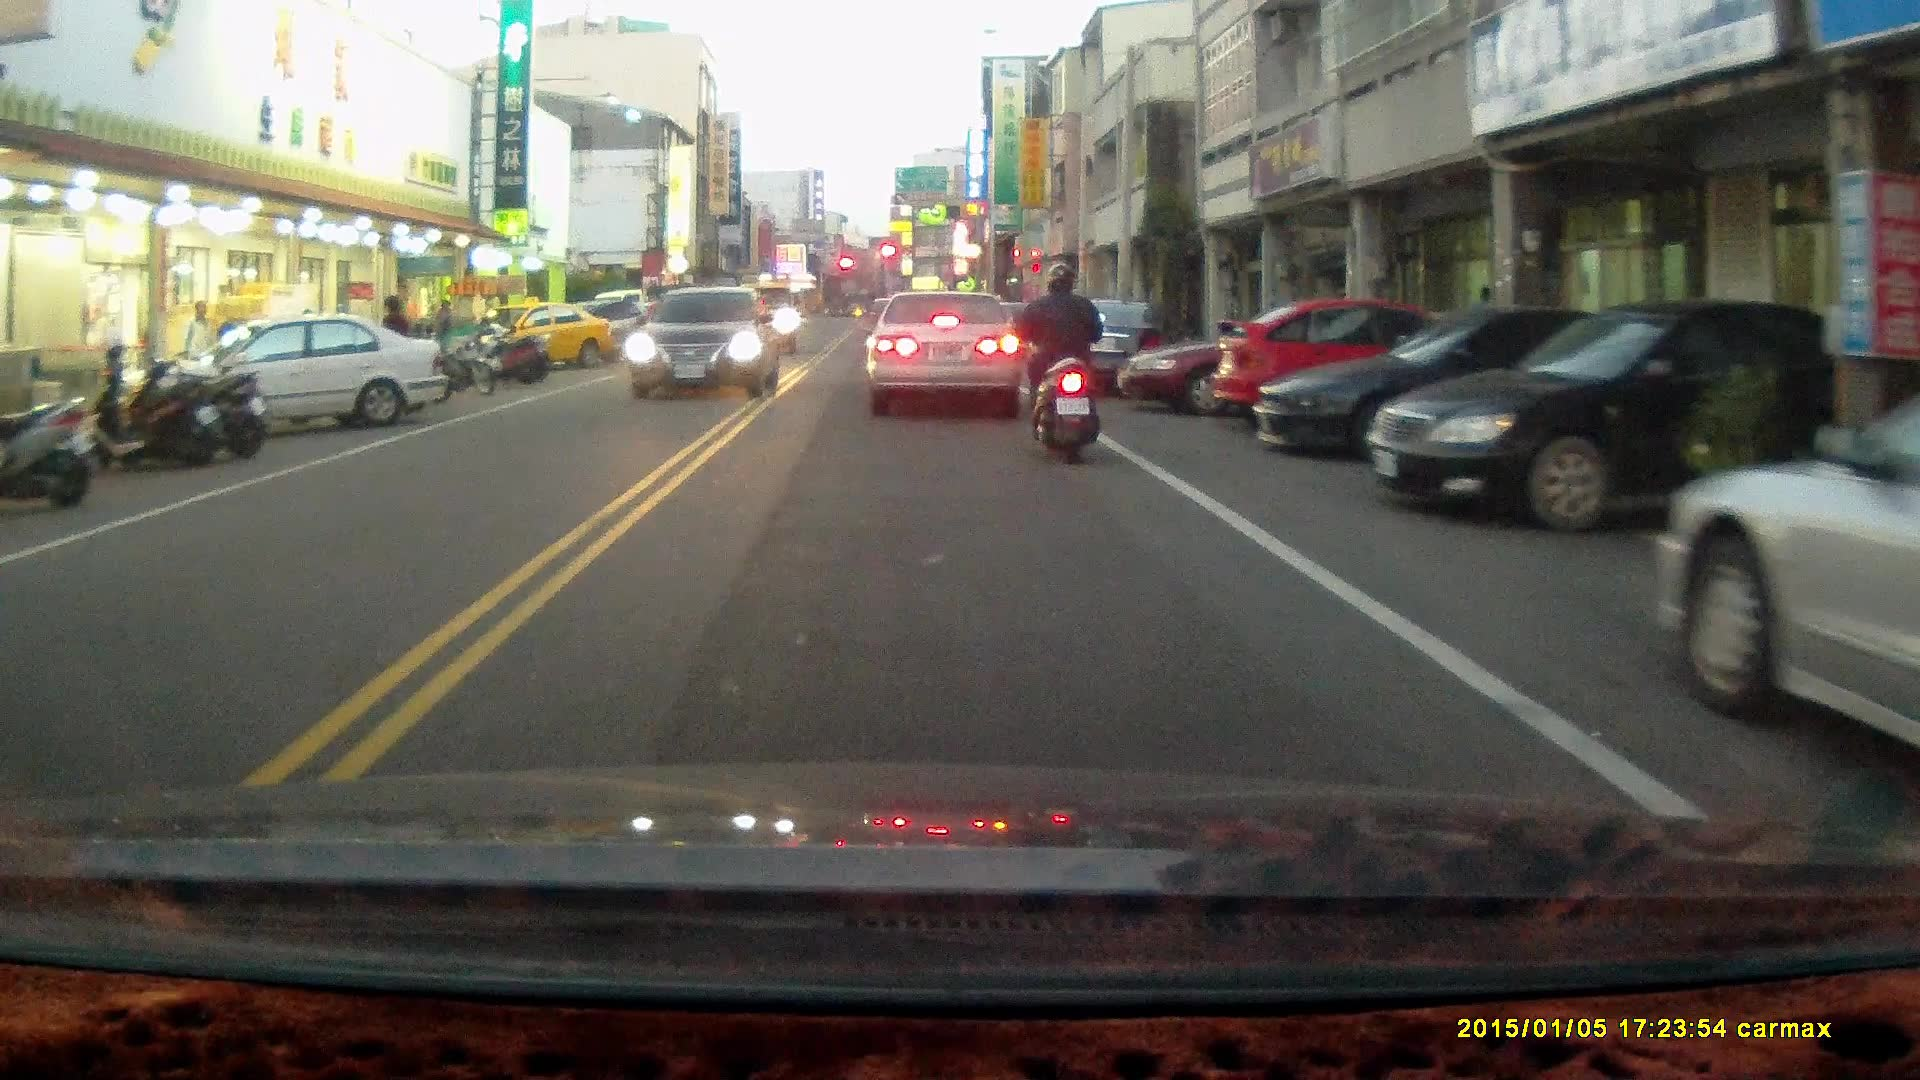pedestrian: (376, 293, 411, 390), (180, 298, 215, 395)
rider: (1010, 259, 1102, 467)
vehicle: (1646, 333, 1920, 811), (1364, 299, 1845, 535), (1256, 309, 1661, 470), (143, 309, 443, 442), (1207, 298, 1481, 436), (1117, 305, 1436, 419), (866, 292, 1026, 425), (627, 284, 779, 405), (497, 306, 619, 381)
